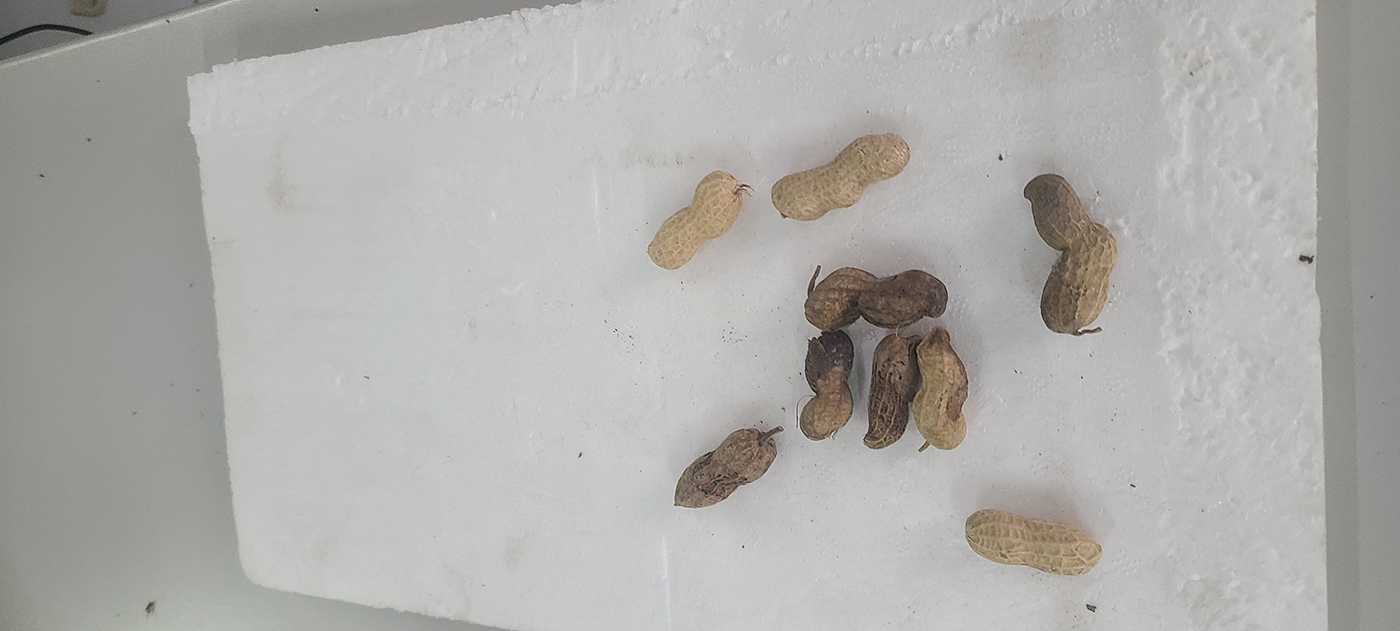h: (772, 133, 911, 220), (647, 169, 742, 270), (965, 510, 1101, 575)
l: (1023, 173, 1116, 335), (804, 266, 949, 329), (674, 430, 776, 508), (912, 327, 968, 450), (863, 335, 919, 448), (797, 329, 854, 440)
